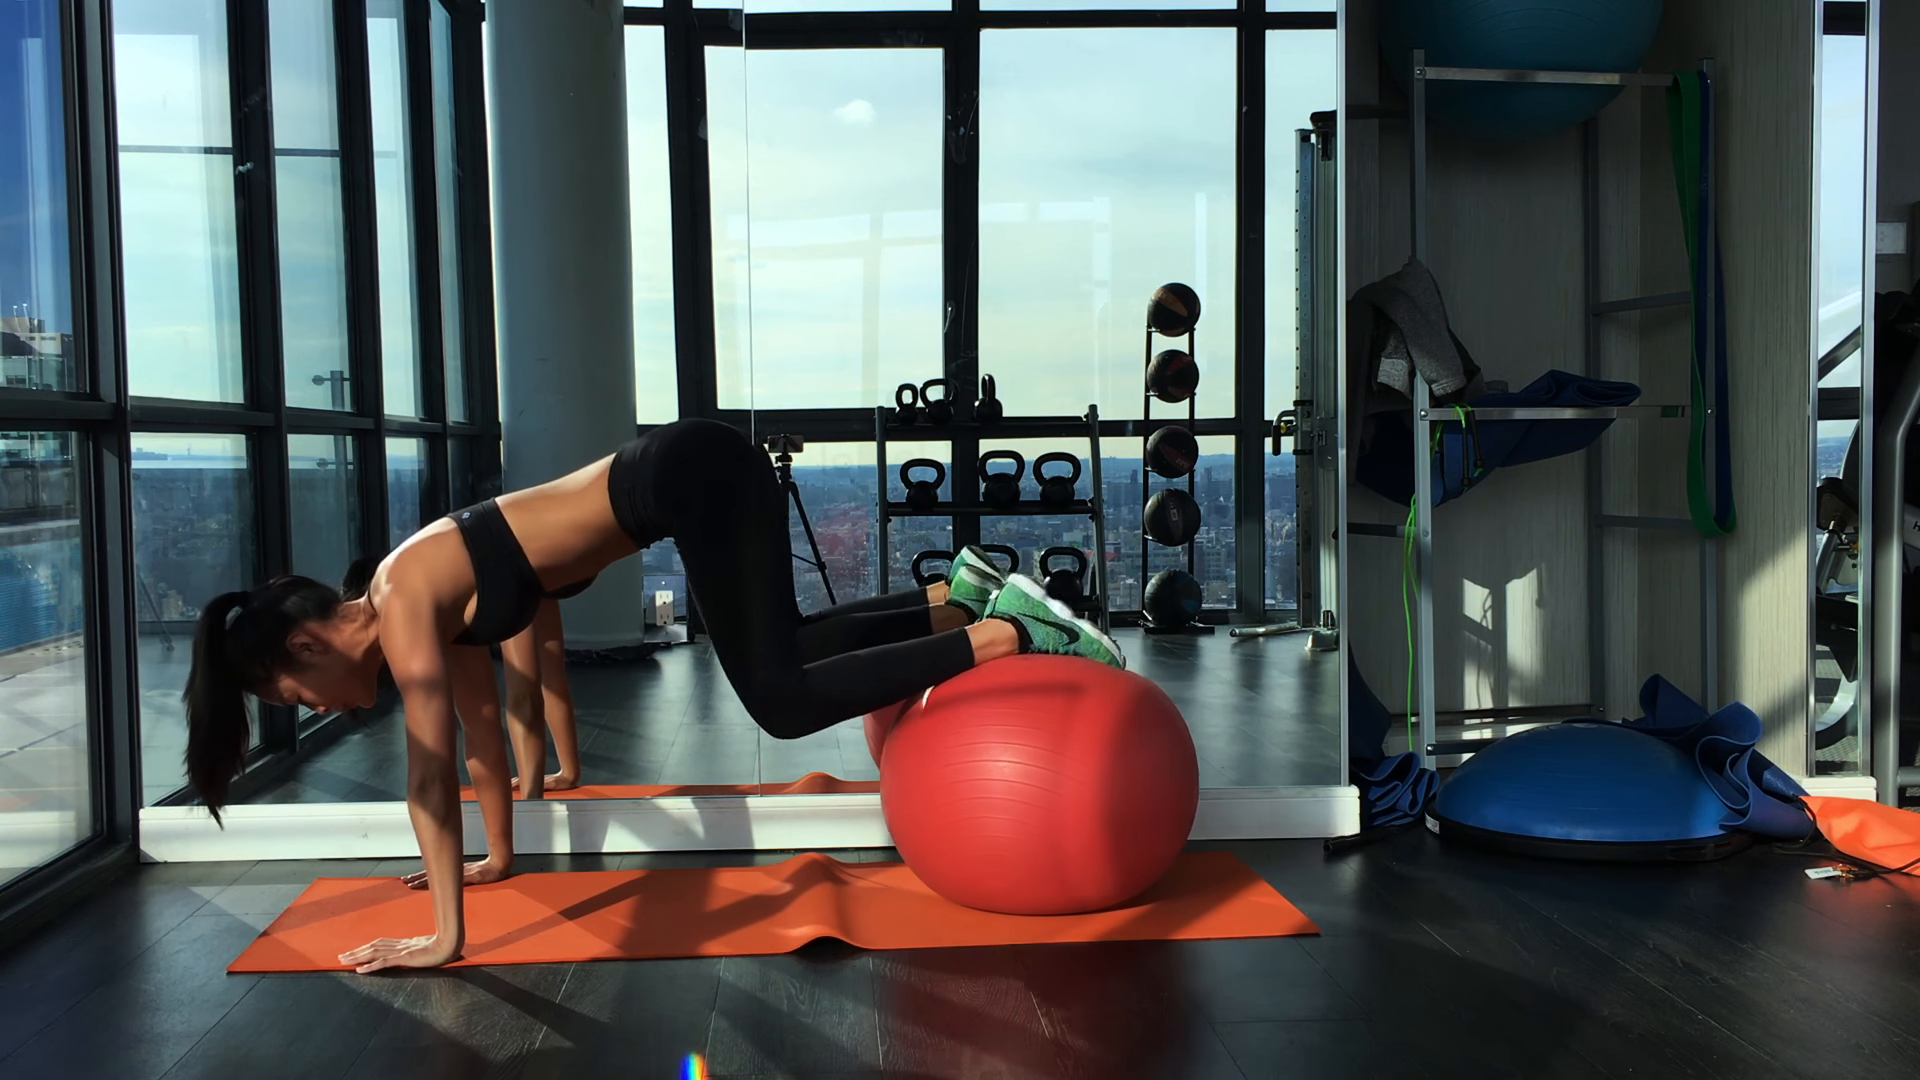yogaball: (860, 649, 1211, 922)
